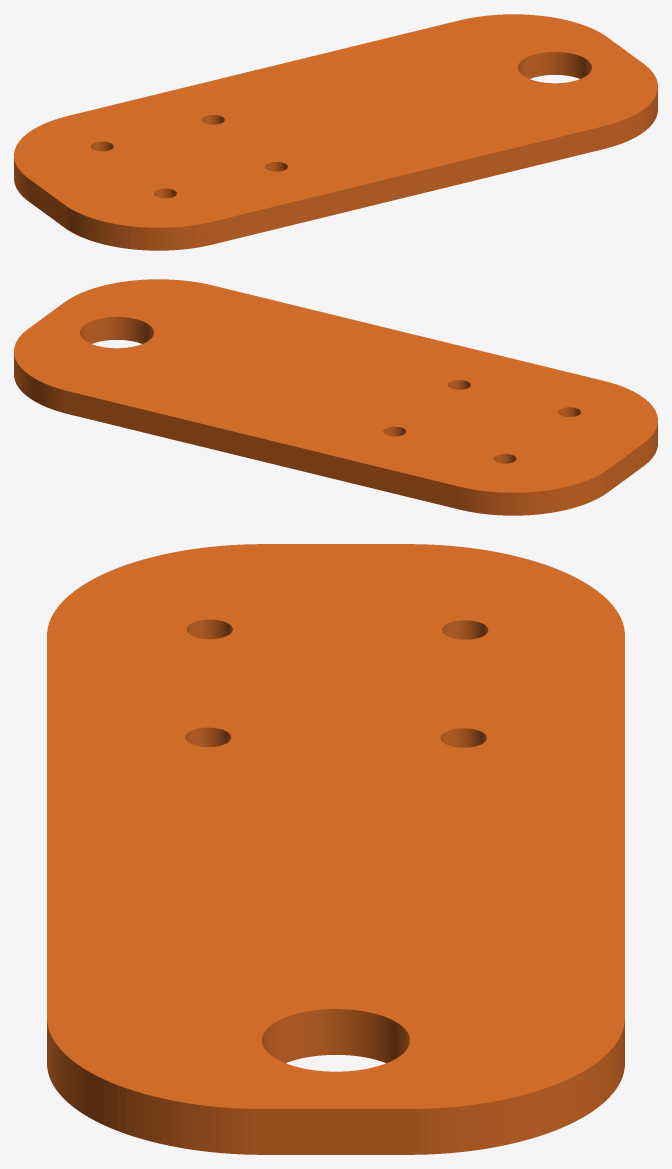
Rendered from hande_bracket.dae.
3 renders of one model, top to bottom at view 1: azimuth 30°, elevation 25°; view 2: azimuth 150°, elevation 25°; view 3: azimuth 270°, elevation 25°, orthographic. The views are drawn at different scales.
Visible parts, largest first — view 1: node0.001; view 2: node0.001; view 3: node0.001.
Boxes of the visible parts, x1=… form: node0.001: x1=14, y1=14, x2=657, y2=250; node0.001: x1=14, y1=279, x2=657, y2=515; node0.001: x1=47, y1=544, x2=624, y2=1154.
Size of the model in its own units: 0.185 by 0.08 by 0.007.
